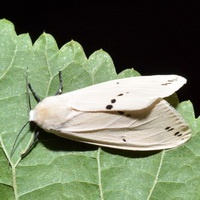insect: (29, 75, 191, 150)
